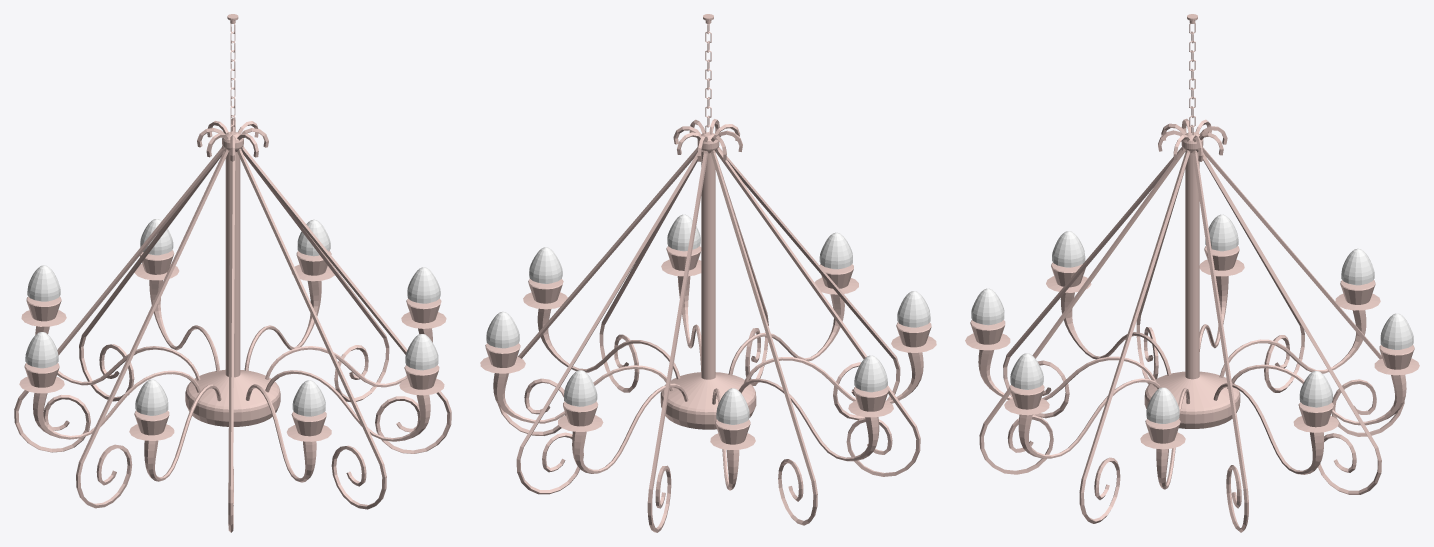
Rendered from chandelier.fbx.
The picture shows the model from 3 angles, left to right: view 1: azimuth 30°, elevation 25°; view 2: azimuth 150°, elevation 25°; view 3: azimuth 270°, elevation 25°; orthographic projection.
Parts seen in each view (by area): view 1: Lamps, Bars, Stem, Chain; view 2: Lamps, Bars, Stem, Chain; view 3: Lamps, Bars, Stem, Chain.
Part boxes in pixels (<box>): Lamps: <box>19,219,446,482</box>; Bars: <box>14,117,451,532</box>; Stem: <box>185,131,280,426</box>; Chain: <box>227,14,238,133</box>; Lamps: <box>480,214,936,490</box>; Bars: <box>498,119,920,532</box>; Stem: <box>660,132,756,429</box>; Chain: <box>703,14,713,134</box>; Lamps: <box>965,214,1419,489</box>; Bars: <box>979,118,1404,532</box>; Stem: <box>1144,132,1240,428</box>; Chain: <box>1187,14,1197,134</box>.
Bounding box in the file's own units: 84.04 × 89.58 × 84.04.
